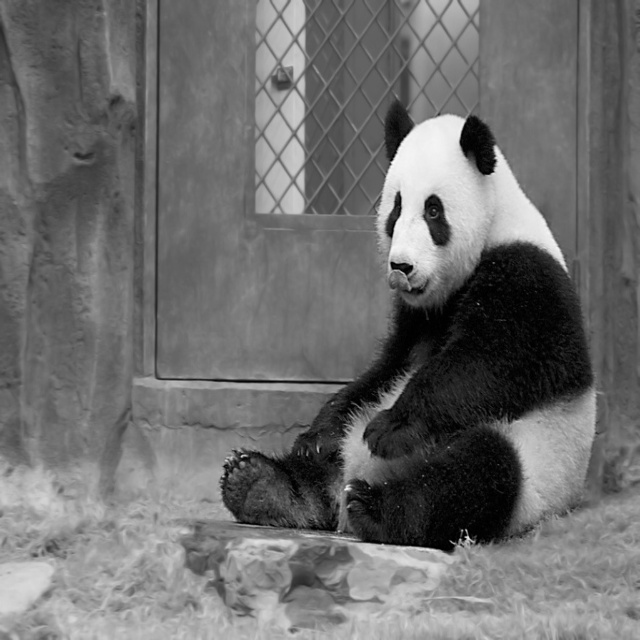Panda: (219, 93, 597, 545)
